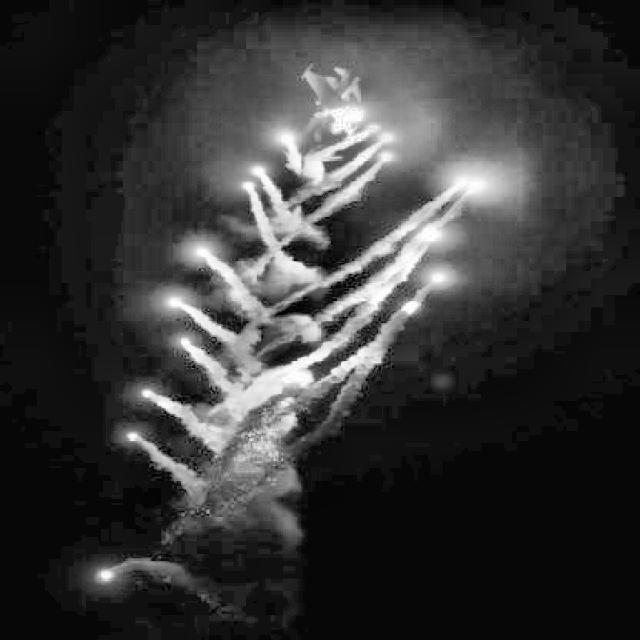JAS39: (300, 64, 372, 138)
